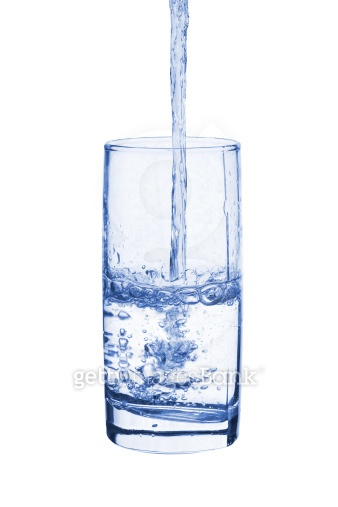glass of water: (90, 109, 261, 465)
